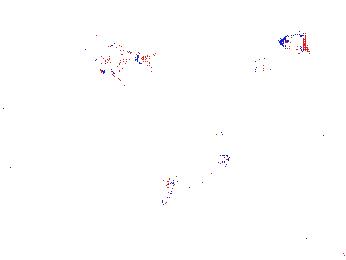X-ray fish: (201, 29, 241, 61), (1, 41, 31, 63)
glassfish: (113, 118, 243, 179)
redtail glassfish: (162, 153, 231, 197), (83, 39, 153, 74), (276, 29, 310, 59)
